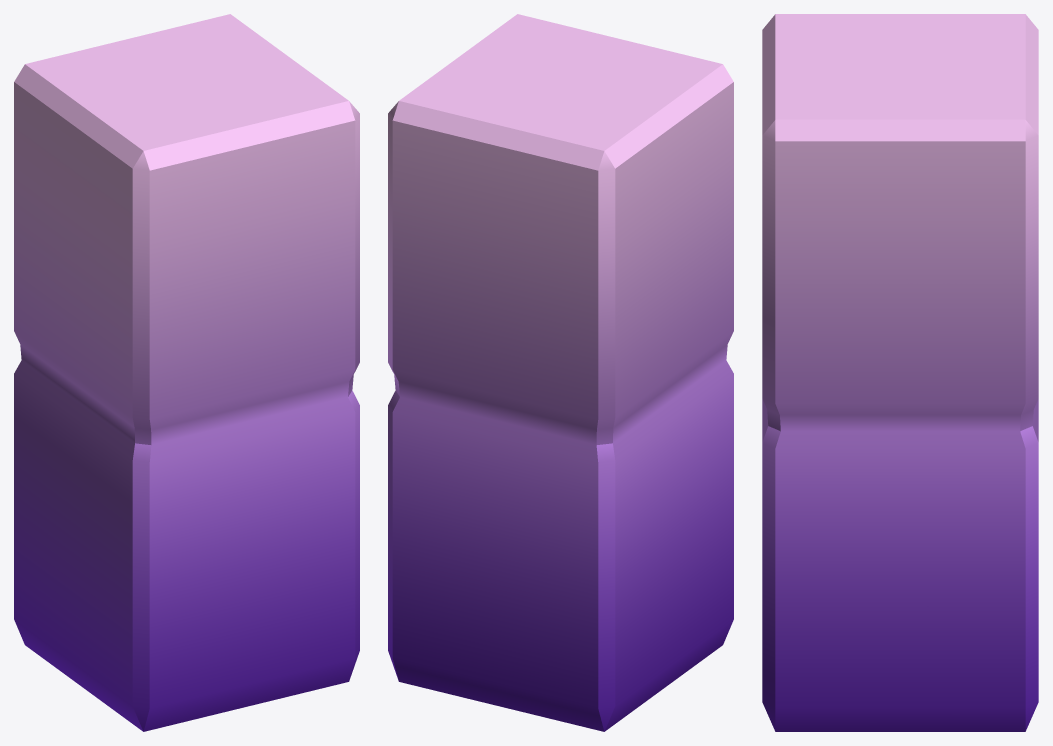
Rendered from Wall.fbx.
3 views of the same model, side by side, from view 1: azimuth 30°, elevation 25°; view 2: azimuth 150°, elevation 25°; view 3: azimuth 270°, elevation 25° (orthographic). The views are drawn at different scales.
Parts seen in each view (by area): view 1: WallMesh; view 2: WallMesh; view 3: WallMesh.
Part boxes in pixels (bbox=[...]): WallMesh: bbox=[14, 14, 359, 731]; WallMesh: bbox=[388, 14, 733, 731]; WallMesh: bbox=[762, 14, 1038, 731].
Bounding box in the file's own units: 200 × 489 × 200.
